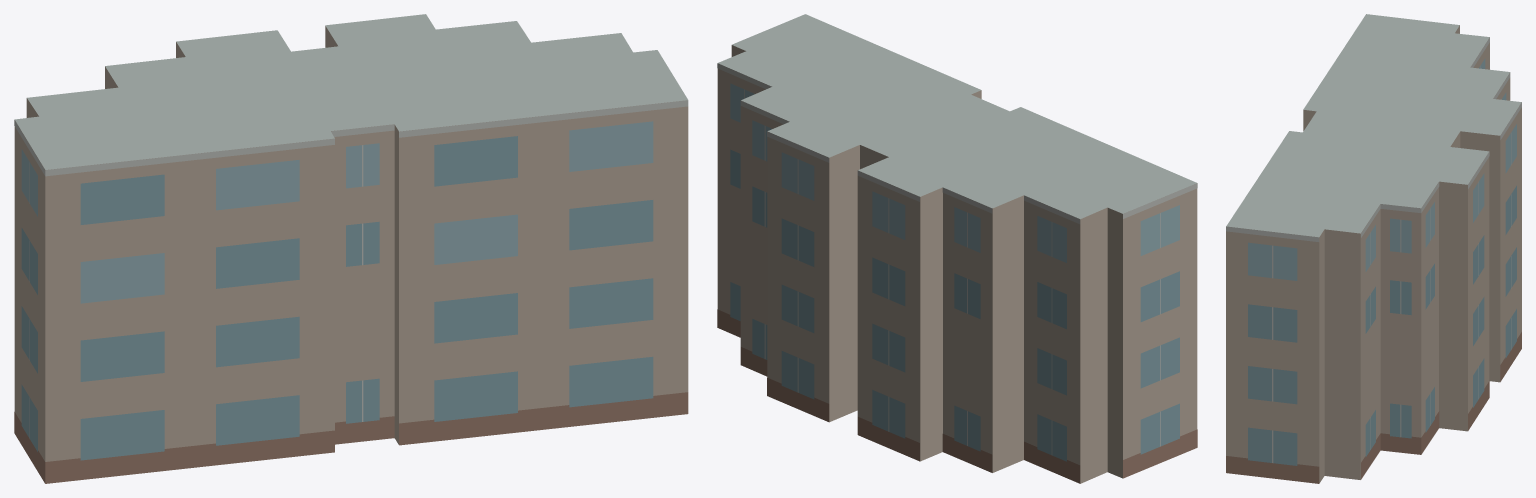
The model's file is survey-upis-32948190.glb.
3 renders of one model, left to right at view 1: azimuth 30°, elevation 25°; view 2: azimuth 150°, elevation 25°; view 3: azimuth 270°, elevation 25°, orthographic. The views are drawn at different scales.
Parts seen in each view (by area): view 1: survey-upis-32948190.tmp; view 2: survey-upis-32948190.tmp; view 3: survey-upis-32948190.tmp.
Part boxes in pixels (left/top/right/bottom): survey-upis-32948190.tmp: left=14, top=14, right=688, bottom=483; survey-upis-32948190.tmp: left=717, top=14, right=1197, bottom=483; survey-upis-32948190.tmp: left=1226, top=14, right=1521, bottom=483.
Bounding box in the file's own units: 23.7 × 12.2 × 13.27.
